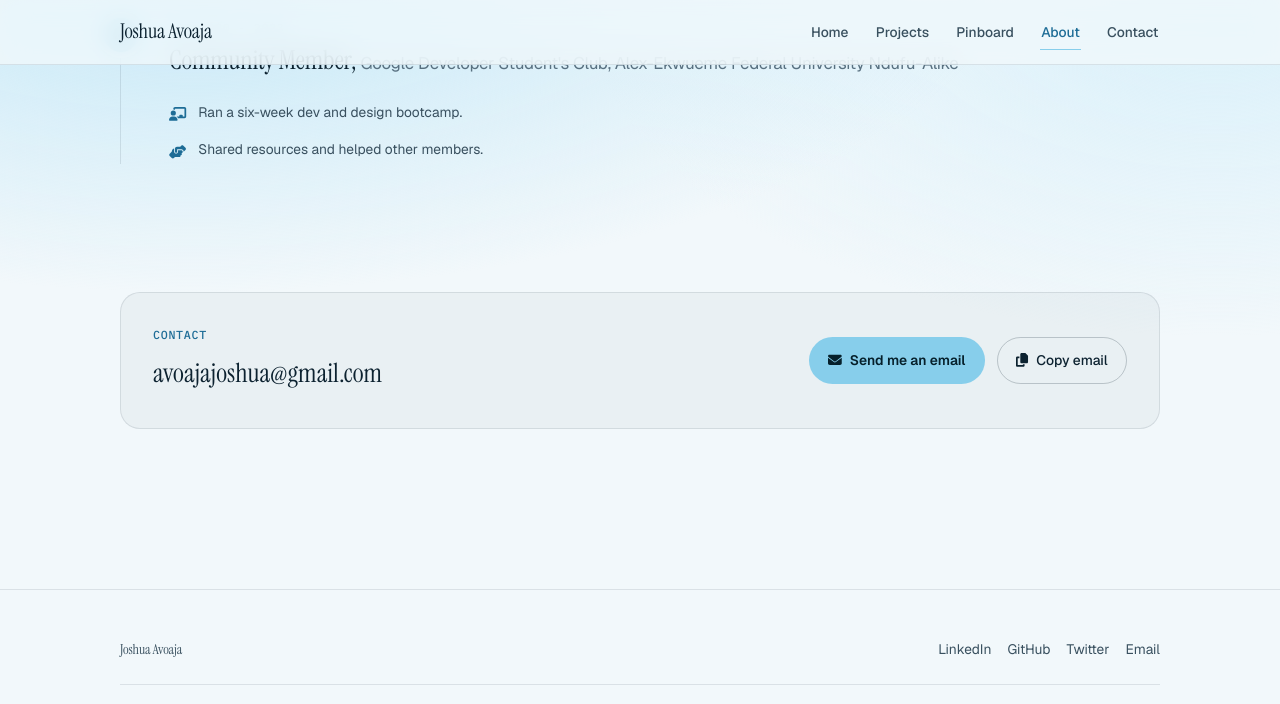
v2 about › copies the email and confirms it
(page scrolled)
Click the button "Copy email" at (1062, 360), box [997,336,1127,384]
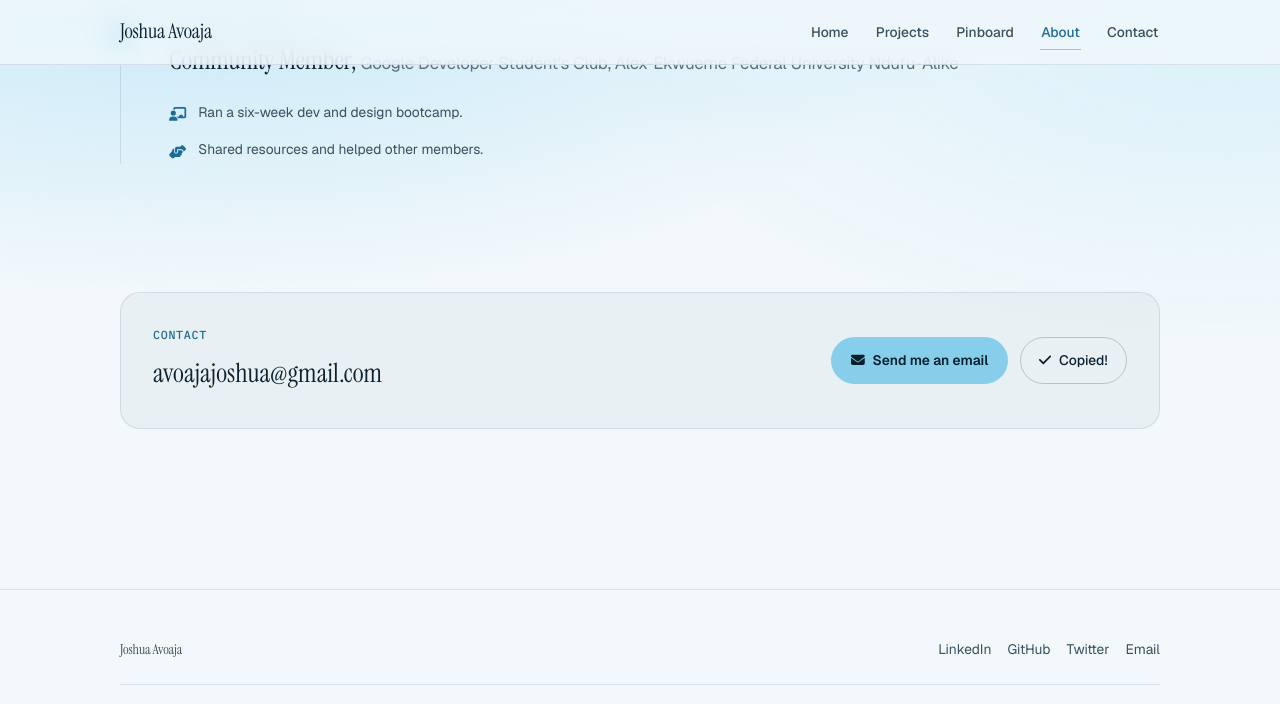
expect the button "Copied!" is shown: met, box [1020,336,1127,384]
